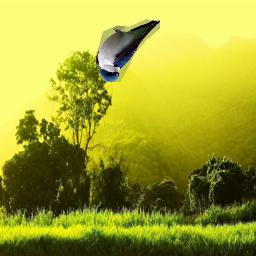Swallow: (96, 20, 161, 83)
